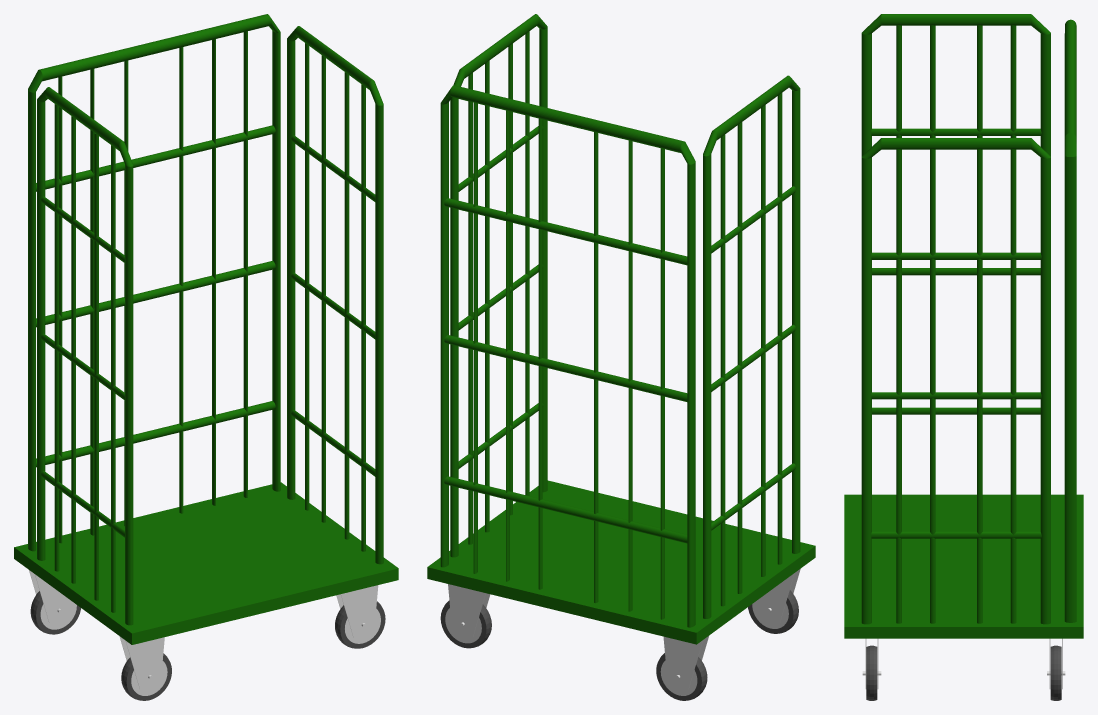
The model's file is SM_Cargo_body.fbx.
The picture shows the model from 3 angles, left to right: view 1: azimuth 30°, elevation 25°; view 2: azimuth 150°, elevation 25°; view 3: azimuth 270°, elevation 25°; orthographic projection.
Visible parts, largest first — view 1: Body, Cast_RR, Cast_FR, RR, FR, Cast_RL, RL; view 2: Body, Cast_RL, Cast_FL, RL, FL, Cast_RR, RR; view 3: Body, FL, FR.
Boxes of the visible parts, x1,y1,x2,y2 form: Body: (14,14,398,644); Cast_RR: (119,636,164,689); Cast_FR: (336,585,378,637); RR: (121,653,171,700); FR: (335,601,385,648); Cast_RL: (29,570,71,623); RL: (30,591,80,634); Body: (427,14,815,644); Cast_RL: (663,636,708,689); Cast_FL: (448,584,490,636); RL: (656,653,707,700); FL: (440,600,491,648); Cast_RR: (757,568,800,622); RR: (748,590,798,633); Body: (844,14,1083,638); FL: (1050,645,1061,700); FR: (866,645,877,700).
Size of the model in its own units: 65.02 by 85 by 170.
